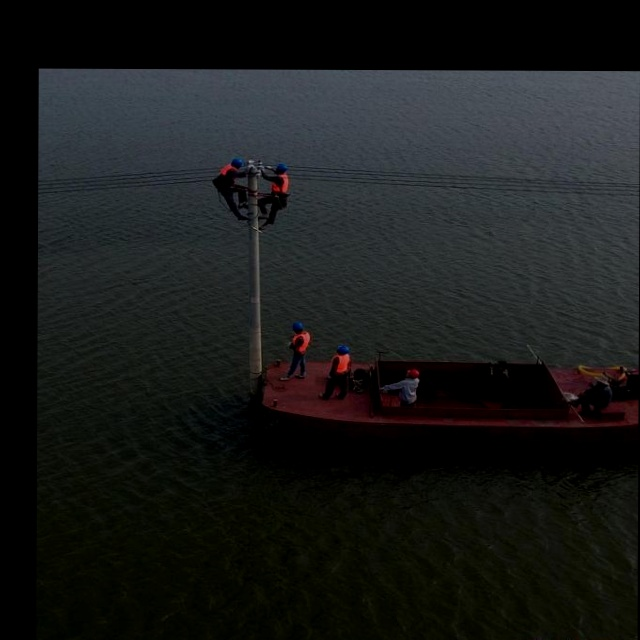Con_Casco: (232, 158, 245, 170), (336, 344, 350, 355), (274, 163, 288, 174), (404, 369, 419, 379), (292, 321, 304, 333)
Sin_Casco_Mascarrilla: (593, 375, 610, 388)
